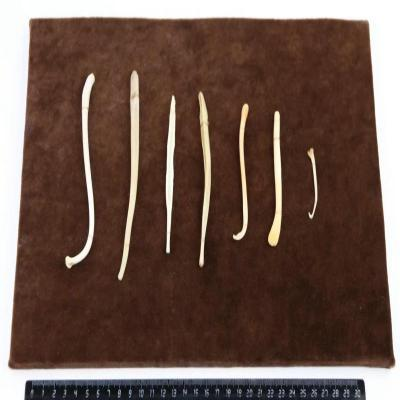natural_science_collection: (66, 74, 96, 269), (118, 71, 140, 282), (198, 92, 213, 268), (234, 105, 250, 242), (268, 112, 284, 248), (166, 96, 178, 255), (308, 149, 319, 220)
